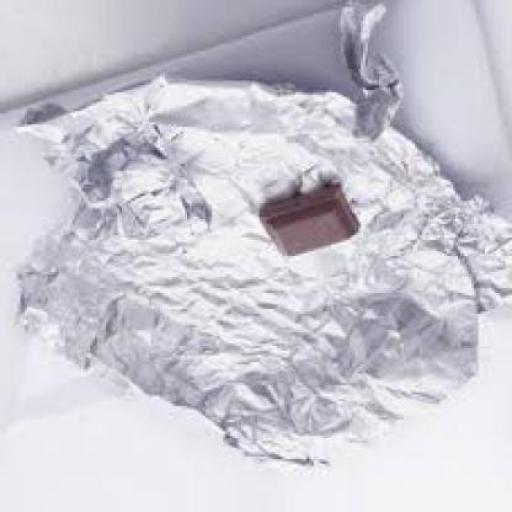biodegradable: (260, 185, 363, 261)
metal: (2, 2, 511, 476)
